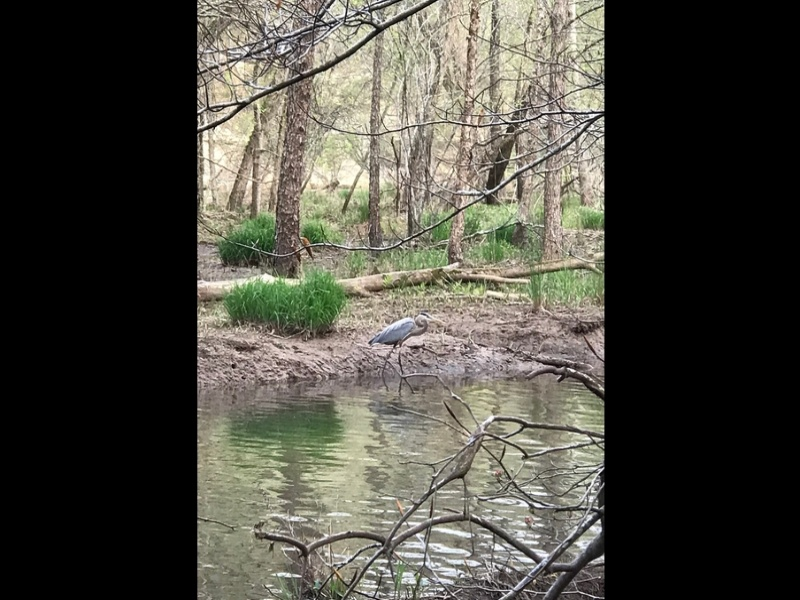heron: (364, 311, 429, 383)
